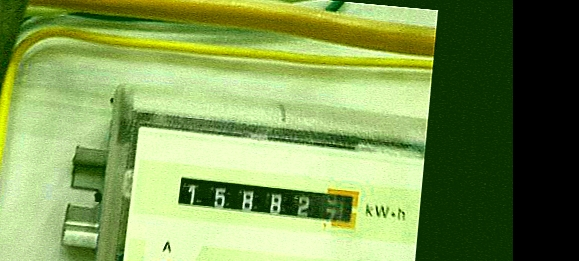1: (183, 181, 199, 204)
2: (293, 193, 311, 218)
5: (211, 183, 227, 209)
7: (323, 203, 336, 221)
8: (266, 190, 282, 216), (238, 188, 253, 212)
screen: (166, 165, 367, 238)
